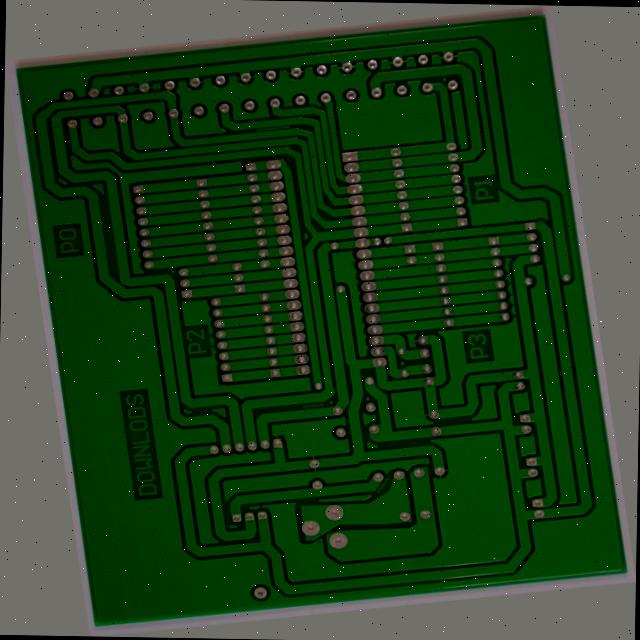spurious_copper: (351, 496, 370, 517), (278, 100, 324, 107), (282, 406, 312, 416)
